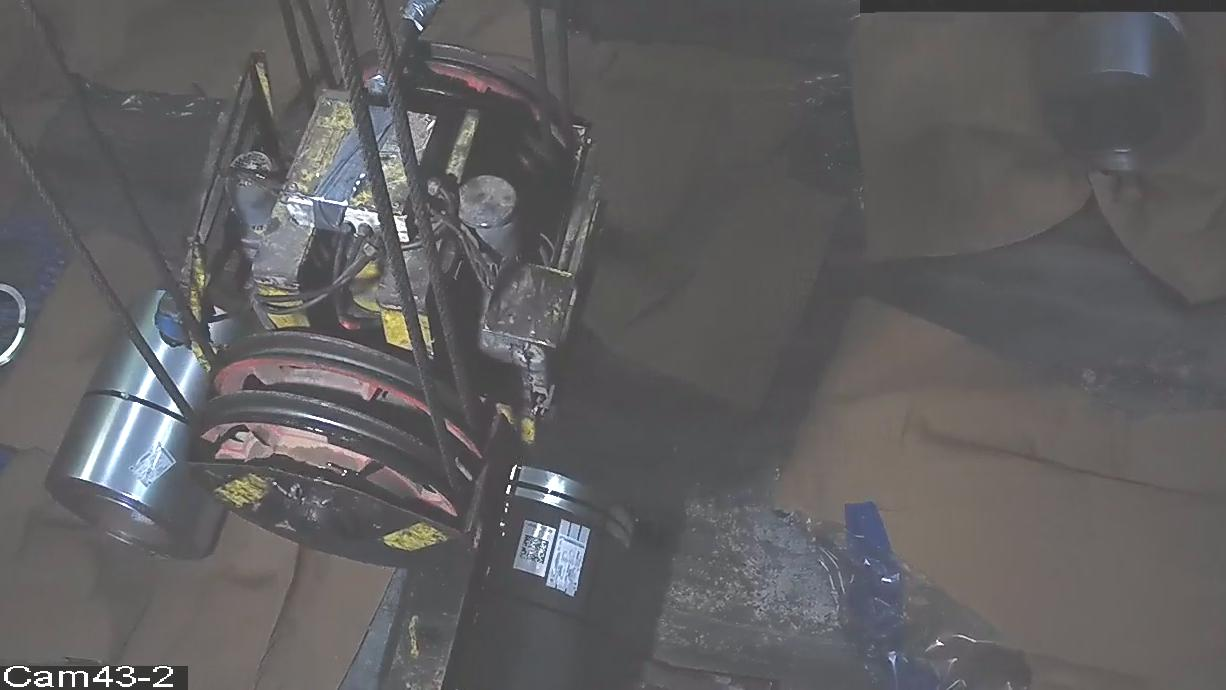data matrix: (517, 532, 552, 567)
